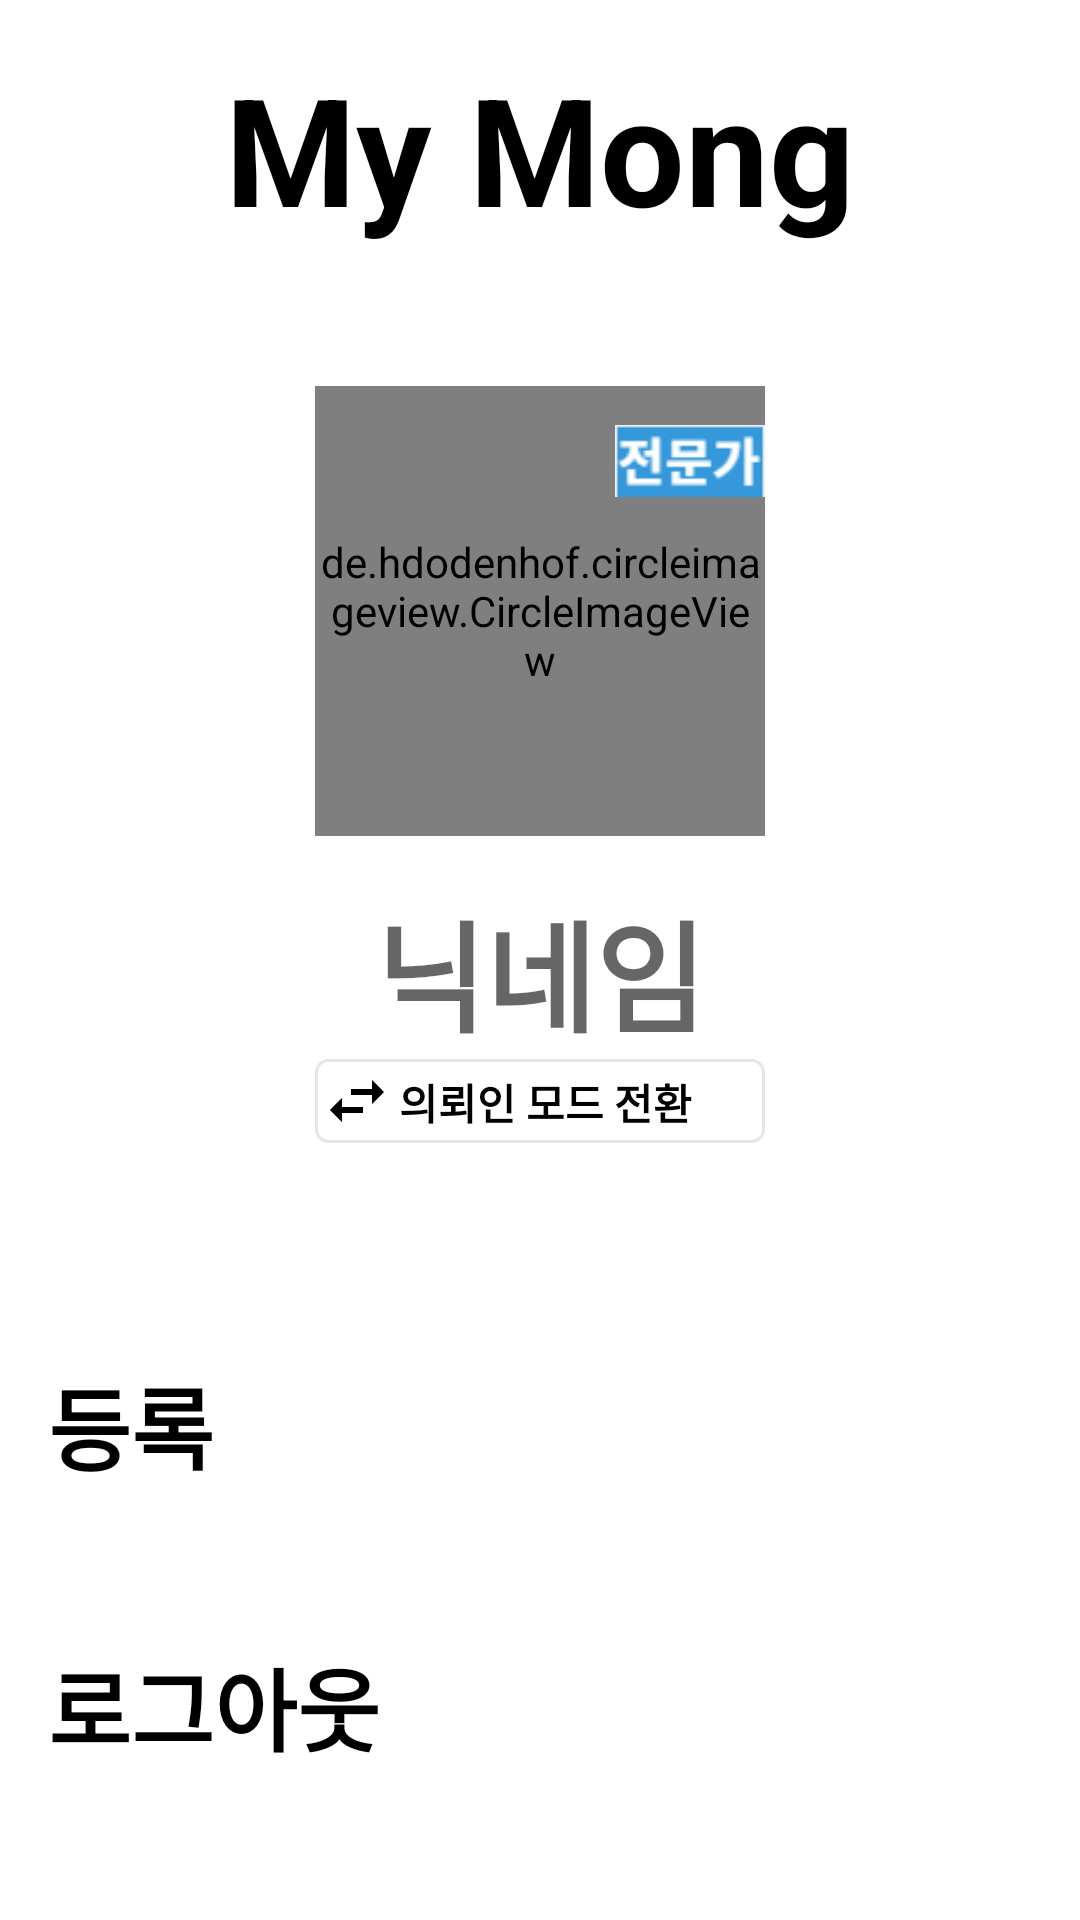

Named icons in this screenshot (1080×1920) and their bounding boxes, (x1, y1, x2, y2):
swap horiz: (315, 1059, 399, 1143)
